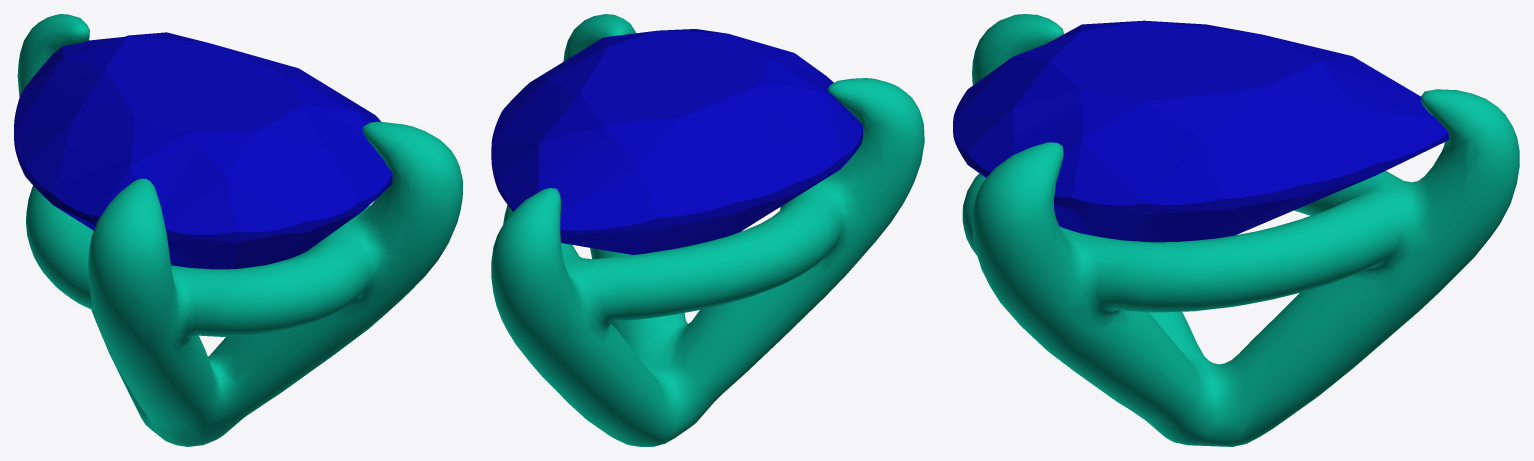
Rendered from Pear.glb.
3 views of the same model, side by side, from view 1: azimuth 30°, elevation 25°; view 2: azimuth 150°, elevation 25°; view 3: azimuth 270°, elevation 25° (orthographic). The views are drawn at different scales.
Parts seen in each view (by area): view 1: /GSMOD388300- CLAW PRONG_Pear_IJ.3dm, Diamond_Pear; view 2: /GSMOD388300- CLAW PRONG_Pear_IJ.3dm, Diamond_Pear; view 3: /GSMOD388300- CLAW PRONG_Pear_IJ.3dm, Diamond_Pear.
Part boxes in pixels (x1,y1,x2,y2): /GSMOD388300- CLAW PRONG_Pear_IJ.3dm: (17, 14, 462, 446); Diamond_Pear: (14, 32, 392, 269); /GSMOD388300- CLAW PRONG_Pear_IJ.3dm: (491, 14, 924, 446); Diamond_Pear: (491, 29, 862, 254); /GSMOD388300- CLAW PRONG_Pear_IJ.3dm: (962, 14, 1519, 446); Diamond_Pear: (953, 20, 1449, 242).
Size of the model in its own units: 7.35 by 6.96 by 9.46.
